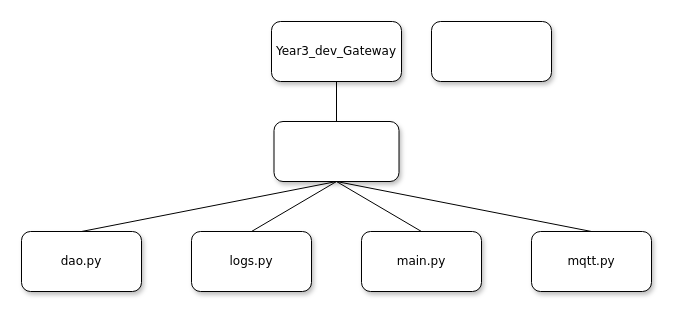
Some shapes in this 675 by 316 pixel diagram are drawn without their labels. Each missing label, with the centre of its shape:
"gateway" goes at (337,152).
"venv" goes at (492,52).
